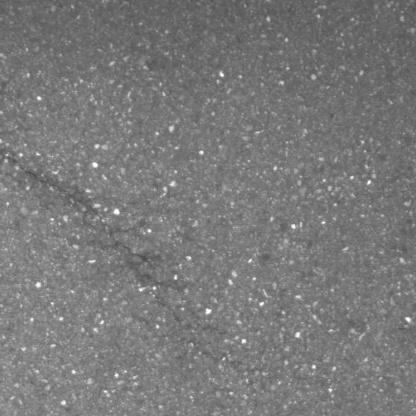Cracks: (0, 134, 155, 267)
